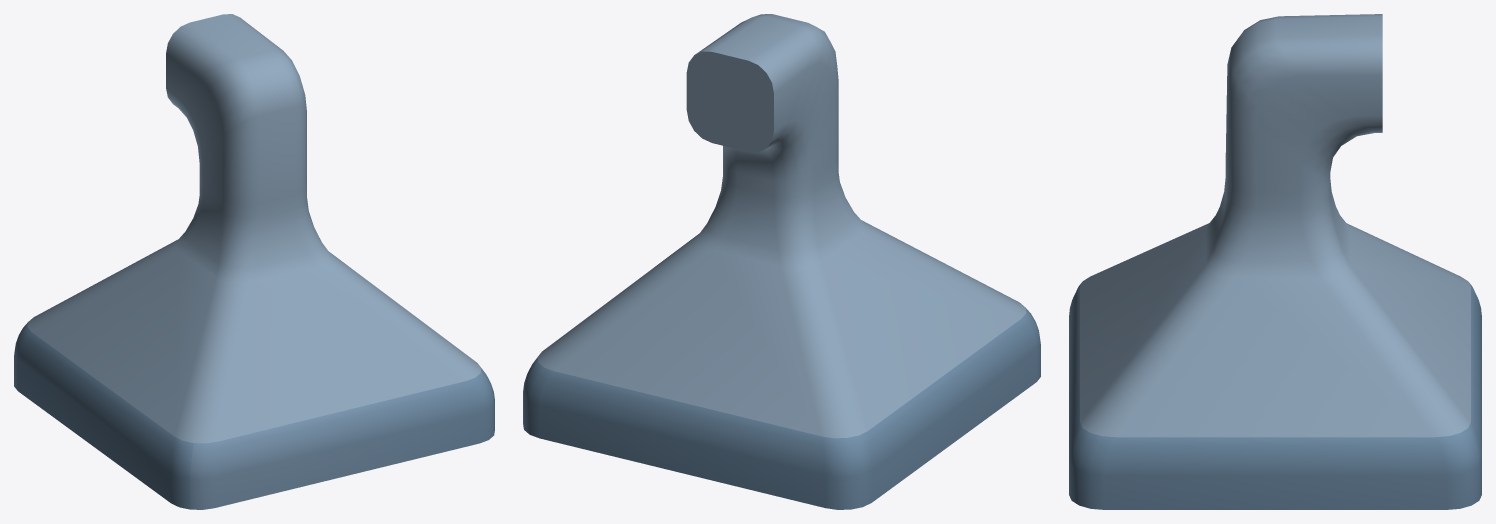
File: Hood.fbx
3 renders of one model, left to right at view 1: azimuth 30°, elevation 25°; view 2: azimuth 150°, elevation 25°; view 3: azimuth 270°, elevation 25°, orthographic. The views are drawn at different scales.
Parts seen in each view (by area): view 1: Hood; view 2: Hood; view 3: Hood.
Boxes of the visible parts, bbox=[...] form: Hood: bbox=[14, 14, 494, 509]; Hood: bbox=[523, 14, 1040, 509]; Hood: bbox=[1069, 14, 1481, 509].
Bounding box in the file's own units: 1.47 × 1.56 × 1.47.
